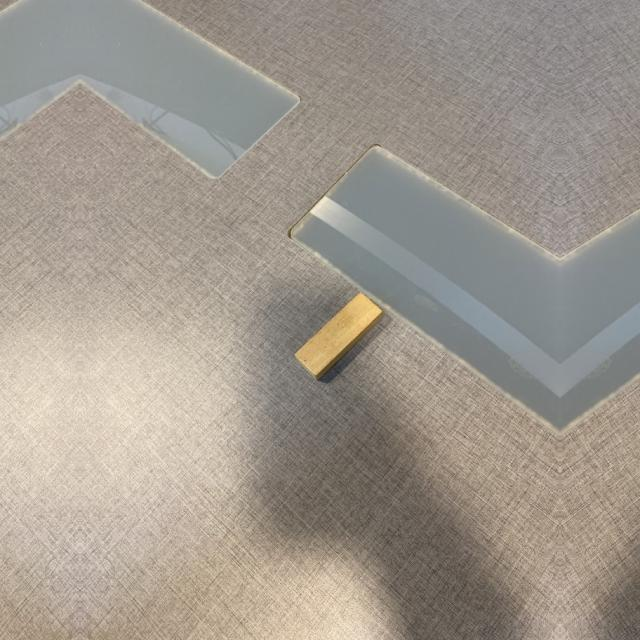jenga: (294, 293, 383, 381)
